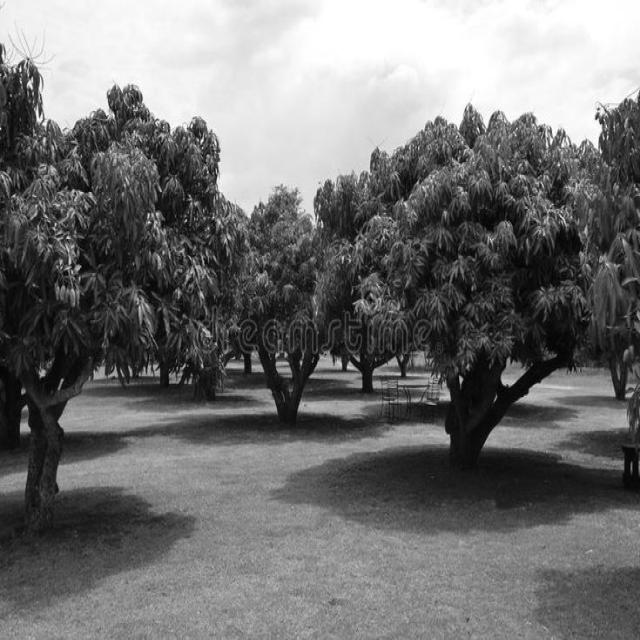Mango-Tree: (5, 73, 236, 520), (346, 144, 588, 461)
